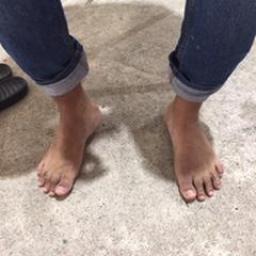Dorsal View -Both Feet-: (33, 72, 229, 214)
